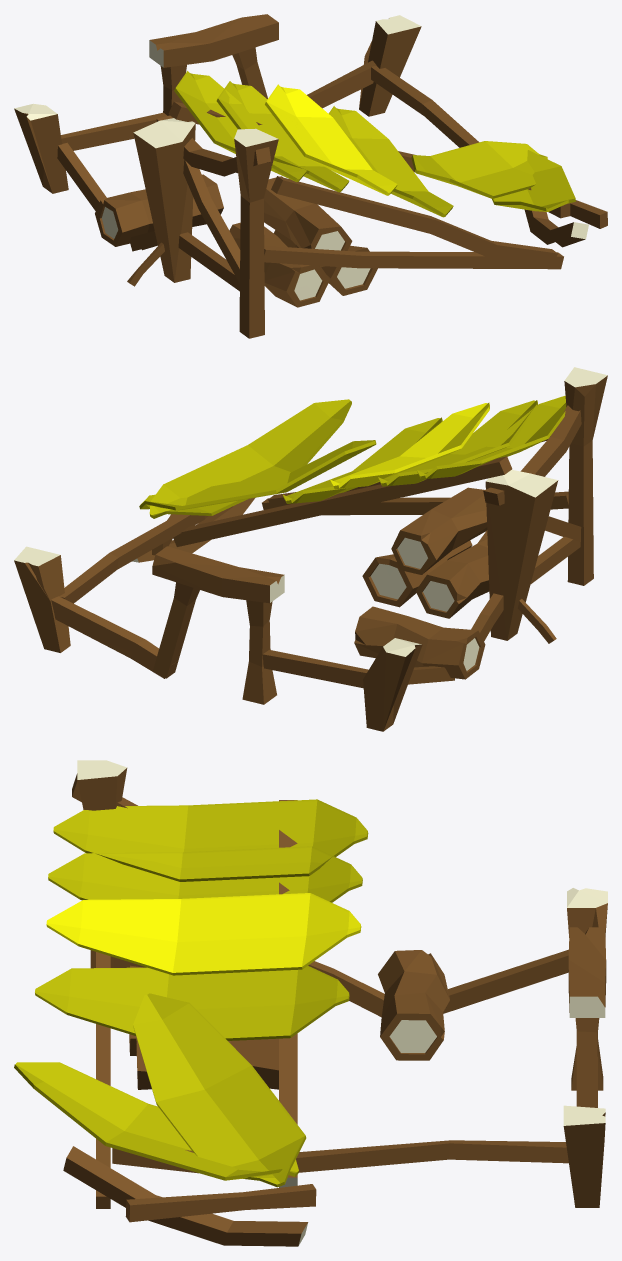
File: RESERVE BOIS 2.fbx
3 renders of one model, top to bottom at view 1: azimuth 30°, elevation 25°; view 2: azimuth 150°, elevation 25°; view 3: azimuth 270°, elevation 25°, orthographic. The views are drawn at different scales.
Visible parts, largest first — view 1: Cube.217; view 2: Cube.217; view 3: Cube.217.
Boxes of the visible parts, <box> form: Cube.217: <box>14,14,607,338</box>; Cube.217: <box>14,367,607,731</box>; Cube.217: <box>14,760,607,1246</box>.
Bounding box in the file's own units: 600 × 300 × 600.
